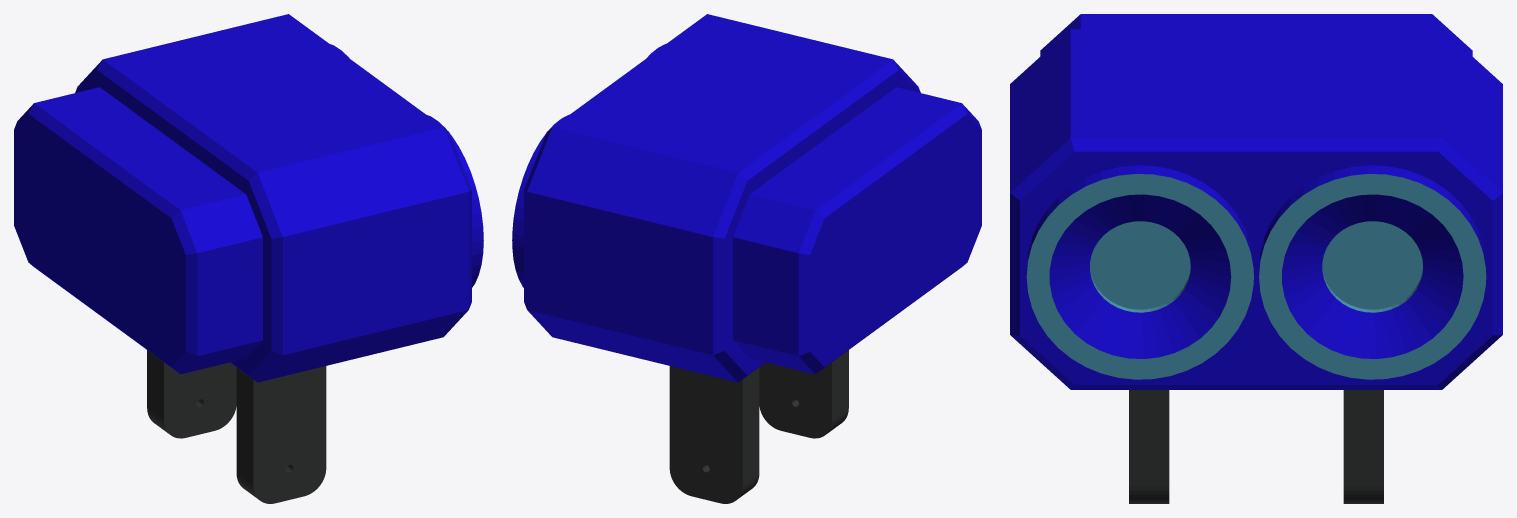
The model's file is ptud46_cammounted_tilt.dae.
3 views of the same model, side by side, from view 1: azimuth 30°, elevation 25°; view 2: azimuth 150°, elevation 25°; view 3: azimuth 270°, elevation 25° (orthographic). The views are drawn at different scales.
Visible parts, largest first — view 1: mobileranger_rugged; view 2: mobileranger_rugged; view 3: mobileranger_rugged.
Part boxes in pixels (box(x1,y1,x2,y2)): mobileranger_rugged: box(14, 14, 483, 503); mobileranger_rugged: box(512, 14, 981, 503); mobileranger_rugged: box(1010, 14, 1502, 503).
Size of the model in its own units: 0.1003 by 0.124 by 0.1194.
